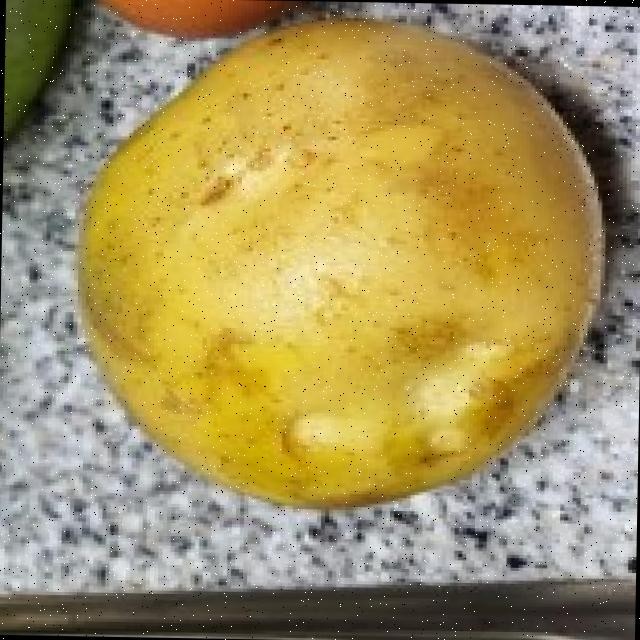Potato: (61, 12, 614, 516)
